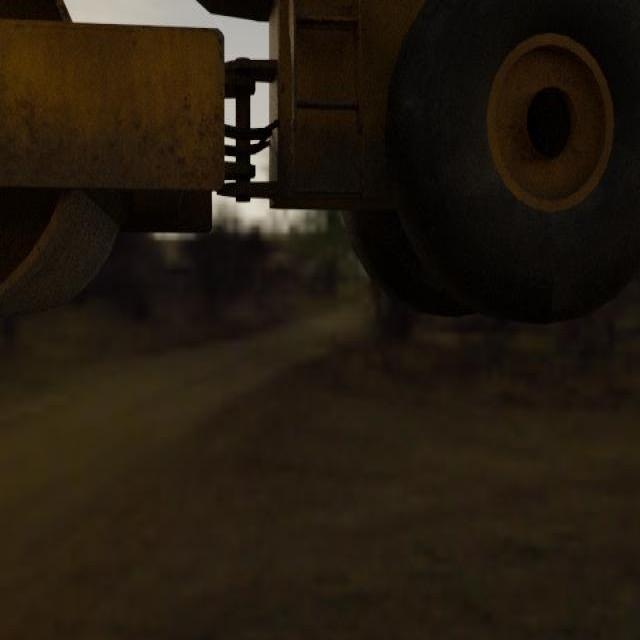Roller: (0, 0, 640, 325)
